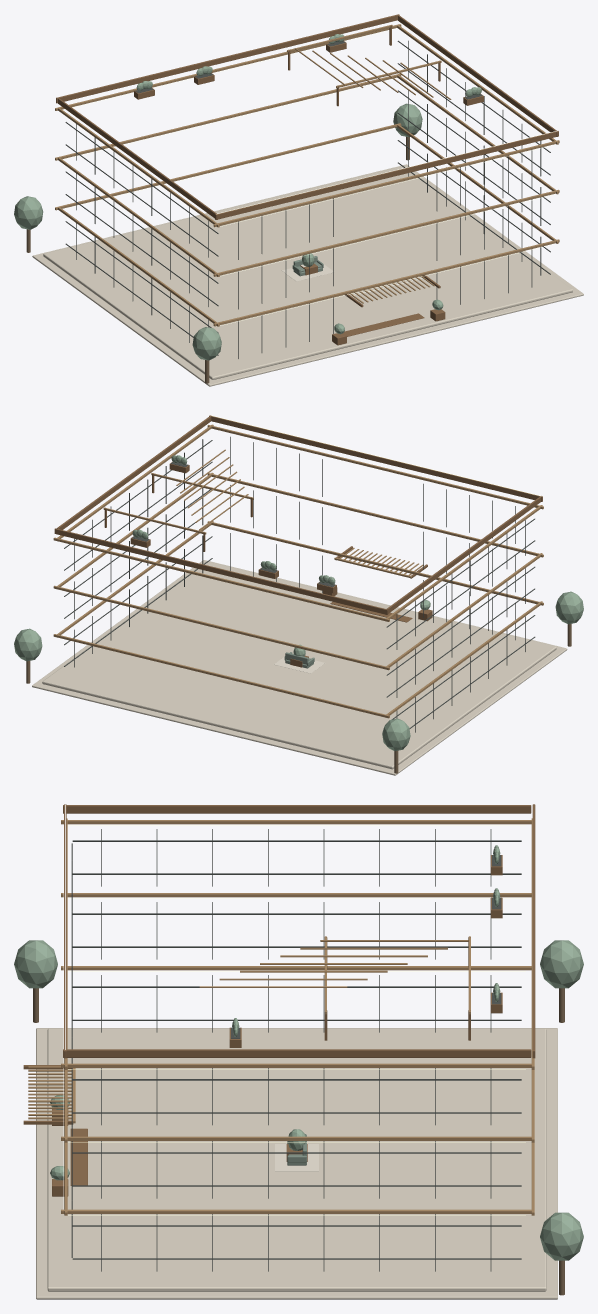
The model's file is hq-building-v2.glb.
3 renders of one model, top to bottom at view 1: azimuth 30°, elevation 25°; view 2: azimuth 150°, elevation 25°; view 3: azimuth 270°, elevation 25°, orthographic. The views are drawn at different scales.
Visible parts, largest first — view 1: Plinth_Upper, Plinth_Lower, Parapet_B, Parapet_F, FloorBeam_2F, FloorBeam_1F, FloorBeam_3F, FloorBeam_1B, FloorBeam_2B, Parapet_L, Parapet_R, FloorBeam_3B (+10 smaller); view 2: Plinth_Upper, Plinth_Lower, Parapet_B, Parapet_F, FloorBeam_1B, FloorBeam_2B, FloorBeam_3B, FloorBeam_3F, FloorBeam_2F, FloorBeam_1F, Parapet_L, Parapet_R (+9 smaller); view 3: Plinth_Upper, Plinth_Lower, Parapet_R, Parapet_L, FloorBeam_1R, FloorBeam_2R, FloorBeam_3R, FloorBeam_3L, FloorBeam_1L, FloorBeam_2L, Tree_Canopy, Tree_Canopy.002 (+16 smaller).
Boxes of the visible parts, <box> form: Plinth_Upper: <box>43,166,572,379</box>; Plinth_Lower: <box>32,164,583,386</box>; Parapet_B: <box>56,14,399,103</box>; Parapet_F: <box>215,131,558,219</box>; FloorBeam_2F: <box>213,189,559,276</box>; FloorBeam_1F: <box>213,239,559,326</box>; FloorBeam_3F: <box>213,140,559,227</box>; FloorBeam_1B: <box>55,123,401,210</box>; FloorBeam_2B: <box>55,73,401,160</box>; Parapet_L: <box>58,98,218,219</box>; Parapet_R: <box>398,15,558,136</box>; FloorBeam_3B: <box>55,24,401,110</box>; Plinth_Upper: <box>42,561,556,769</box>; Plinth_Lower: <box>32,560,567,775</box>; Parapet_B: <box>54,528,388,614</box>; Parapet_F: <box>209,415,542,501</box>; FloorBeam_1B: <box>53,634,389,718</box>; FloorBeam_2B: <box>53,585,389,670</box>; FloorBeam_3B: <box>53,537,389,621</box>; FloorBeam_3F: <box>207,425,543,509</box>; FloorBeam_2F: <box>207,473,543,557</box>; FloorBeam_1F: <box>207,521,543,605</box>; Parapet_L: <box>387,496,541,613</box>; Parapet_R: <box>56,415,211,529</box>; Plinth_Upper: <box>47,1028,546,1291</box>; Plinth_Lower: <box>36,1028,557,1299</box>; Parapet_R: <box>63,1049,531,1057</box>; Parapet_L: <box>63,805,531,813</box>; FloorBeam_1R: <box>61,1209,531,1213</box>; FloorBeam_2R: <box>61,1136,531,1140</box>; FloorBeam_3R: <box>61,1063,531,1067</box>; FloorBeam_3L: <box>61,820,531,824</box>; FloorBeam_1L: <box>61,966,531,970</box>; FloorBeam_2L: <box>61,893,531,897</box>; Tree_Canopy: <box>540,940,583,988</box>; Tree_Canopy.002: <box>14,940,57,988</box>.
Size of the model in its own units: 35.79 by 14.8 by 29.7.
